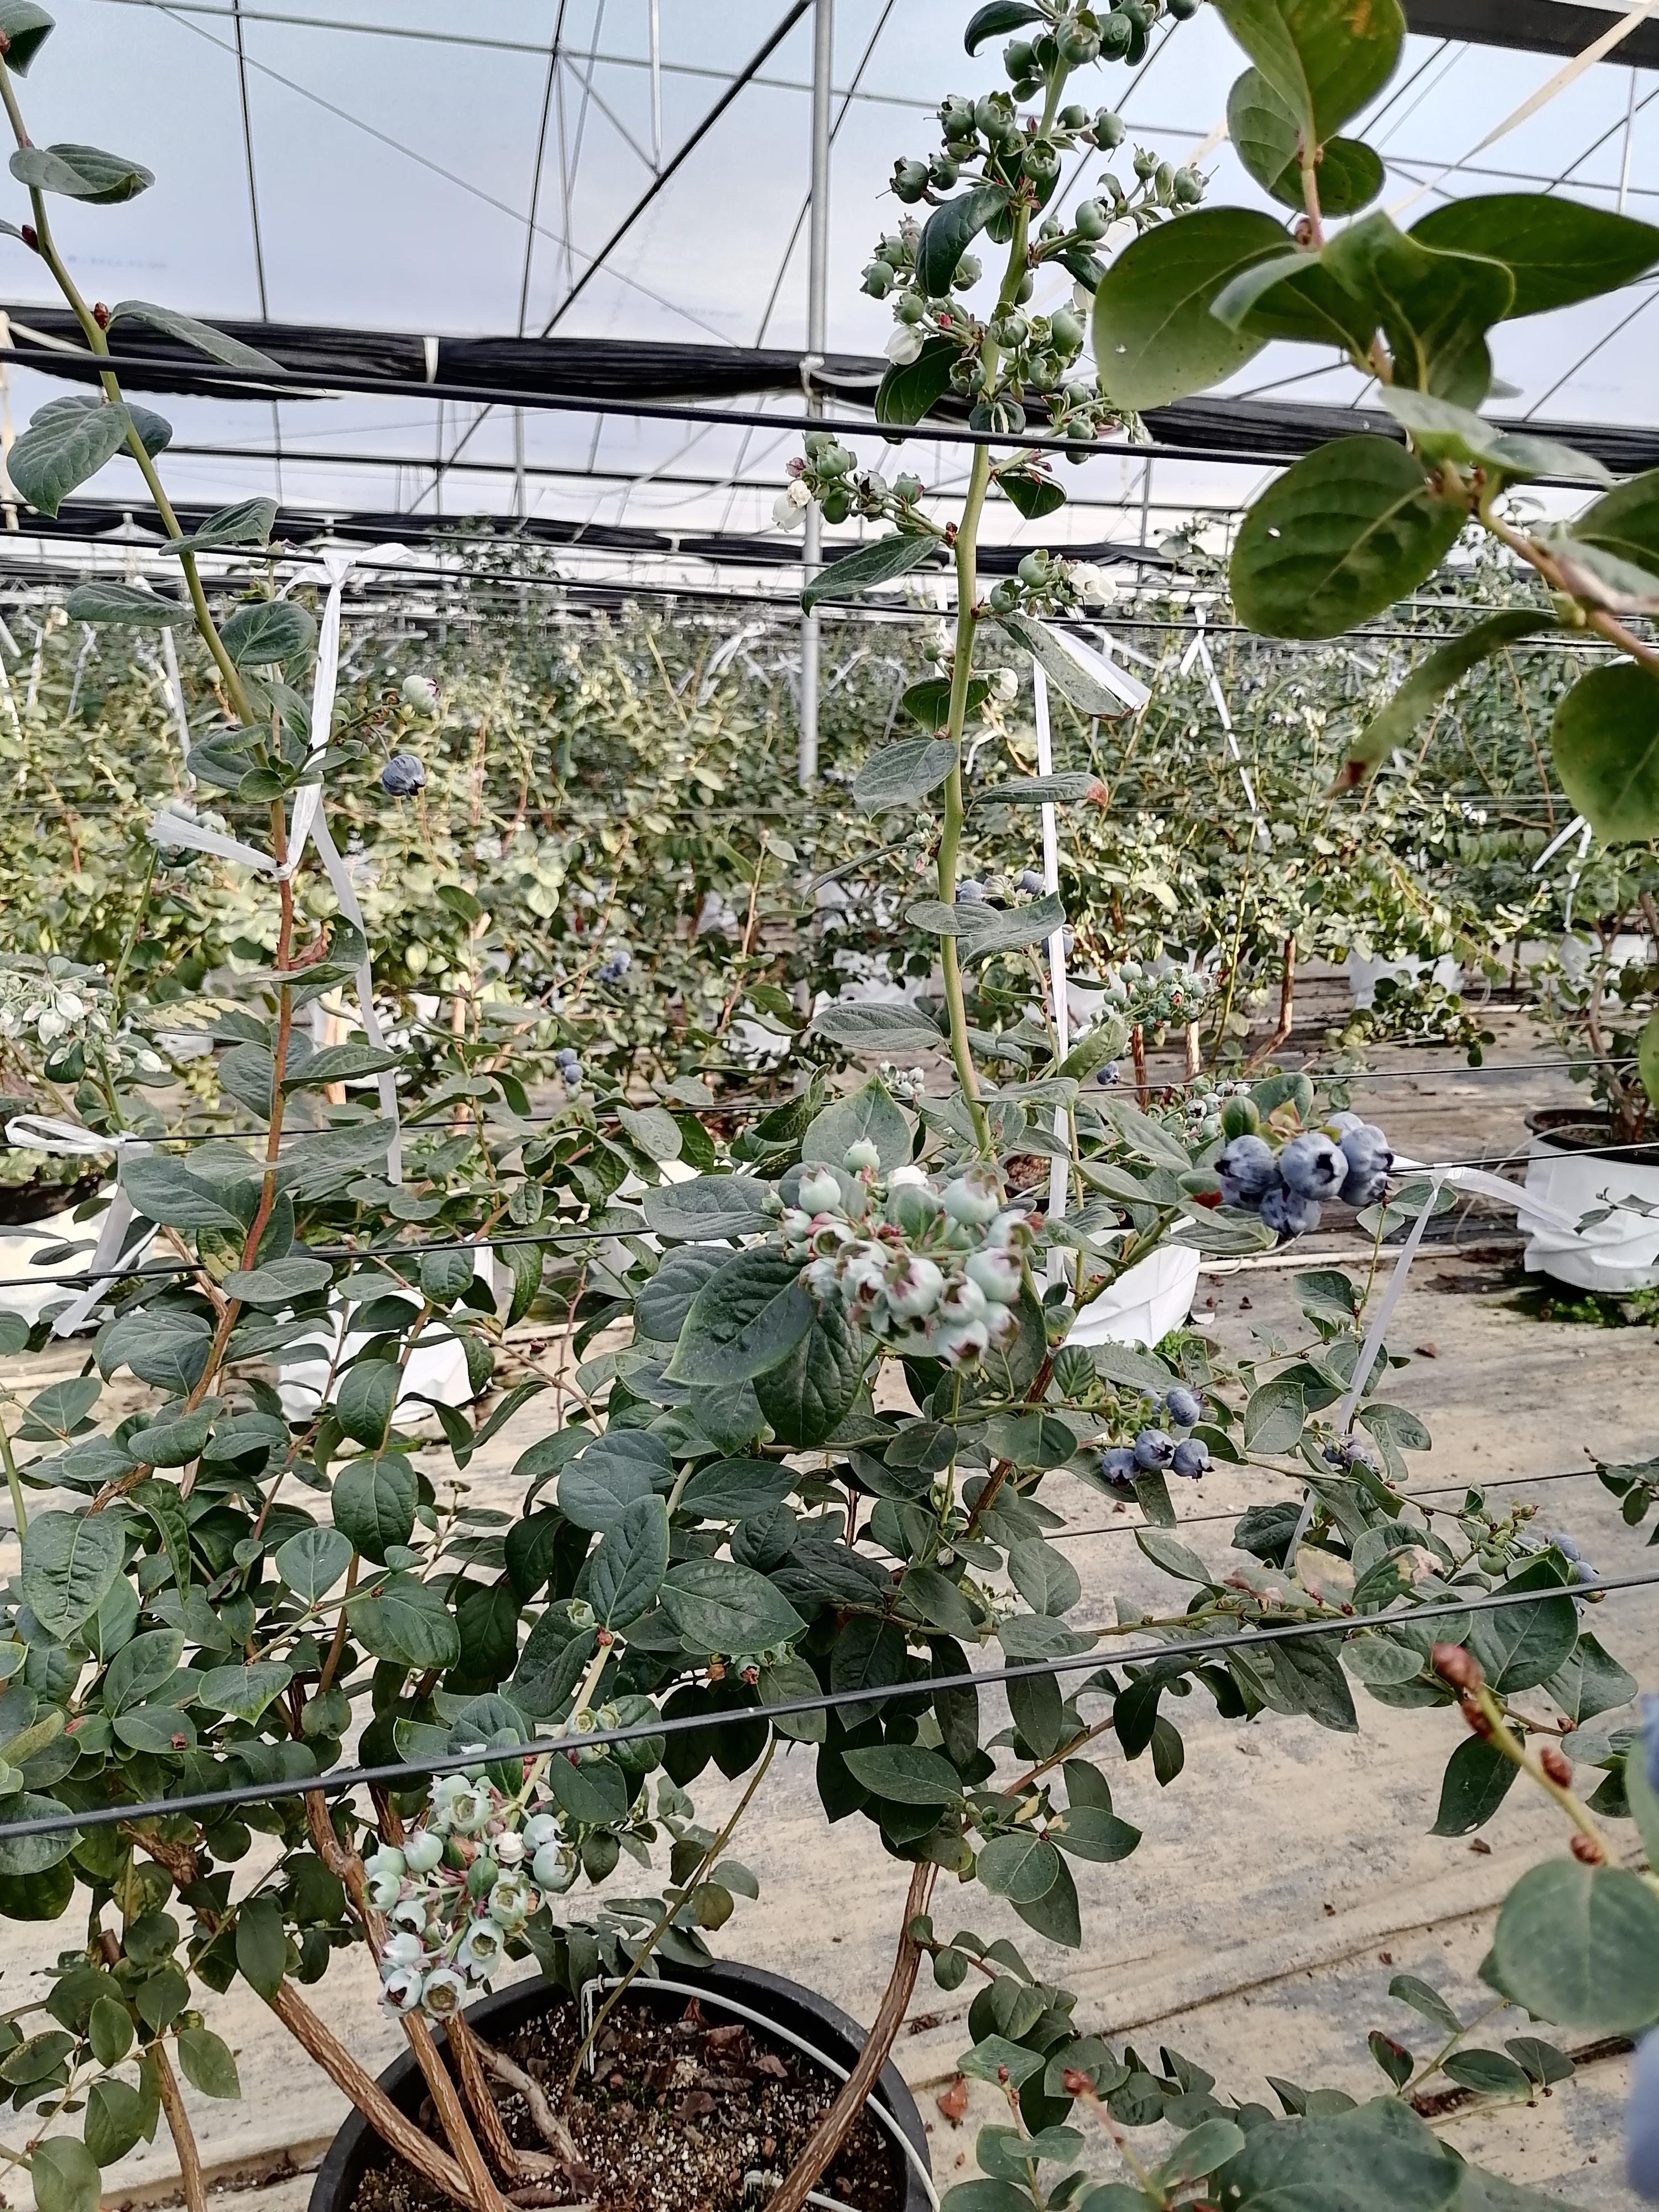ripe-blueberries: (1281, 1132, 1347, 1202), (1215, 1136, 1274, 1193), (1340, 1123, 1396, 1184), (1218, 1163, 1286, 1212), (1260, 1186, 1321, 1240), (382, 754, 425, 799), (1166, 1383, 1209, 1426), (1171, 1439, 1213, 1482), (1340, 1170, 1391, 1205), (1326, 1111, 1368, 1151), (1134, 1430, 1175, 1470), (1101, 1447, 1141, 1486), (1551, 1533, 1581, 1562), (1098, 1061, 1119, 1083), (613, 951, 633, 974), (565, 1064, 584, 1085), (558, 1047, 577, 1066), (599, 965, 617, 984)
